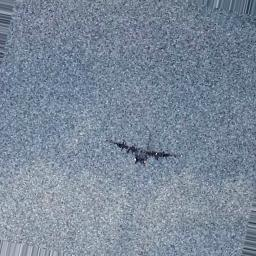Airplane: (106, 136, 183, 166)
